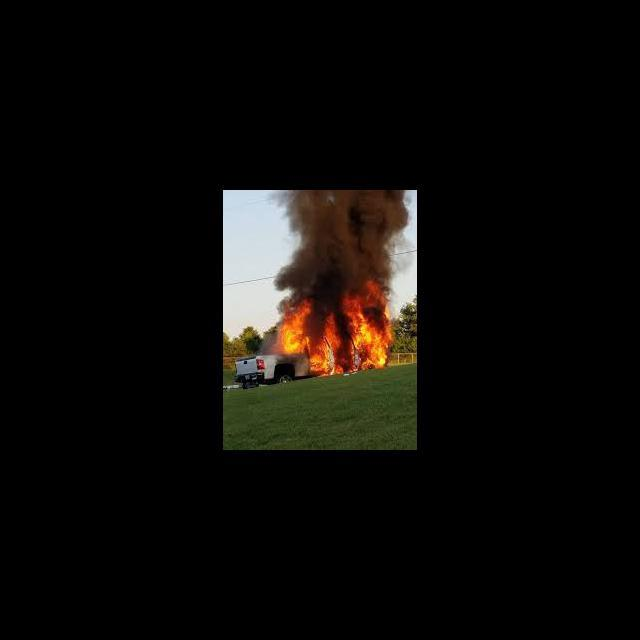Fire: (275, 284, 395, 377)
Smoke: (271, 190, 414, 278)
